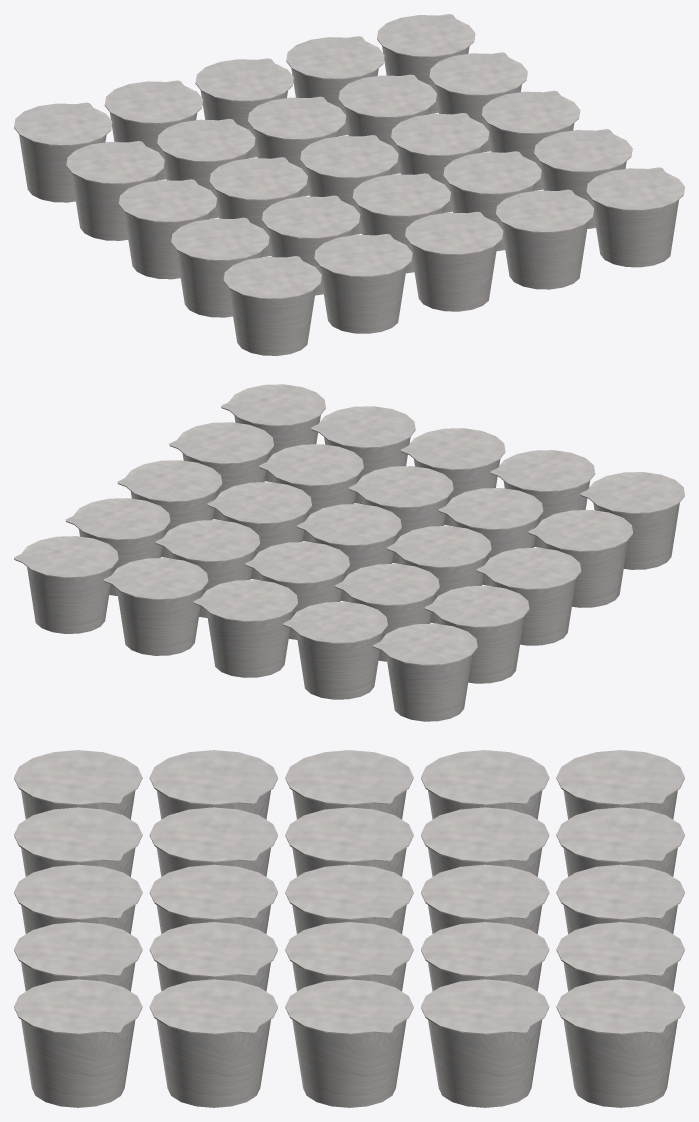
Rendered from Jelly.fbx.
3 views of the same model, one above another, from view 1: azimuth 30°, elevation 25°; view 2: azimuth 150°, elevation 25°; view 3: azimuth 270°, elevation 25° (orthographic). The views are drawn at different scales.
Visible parts, largest first — view 1: jelly3; view 2: jelly3; view 3: jelly3.
Part boxes in pixels (bbox=[...]): jelly3: bbox=[14, 14, 684, 355]; jelly3: bbox=[14, 384, 684, 721]; jelly3: bbox=[14, 750, 684, 1107].
Size of the model in its own units: 74.22 by 9.98 by 74.22.
